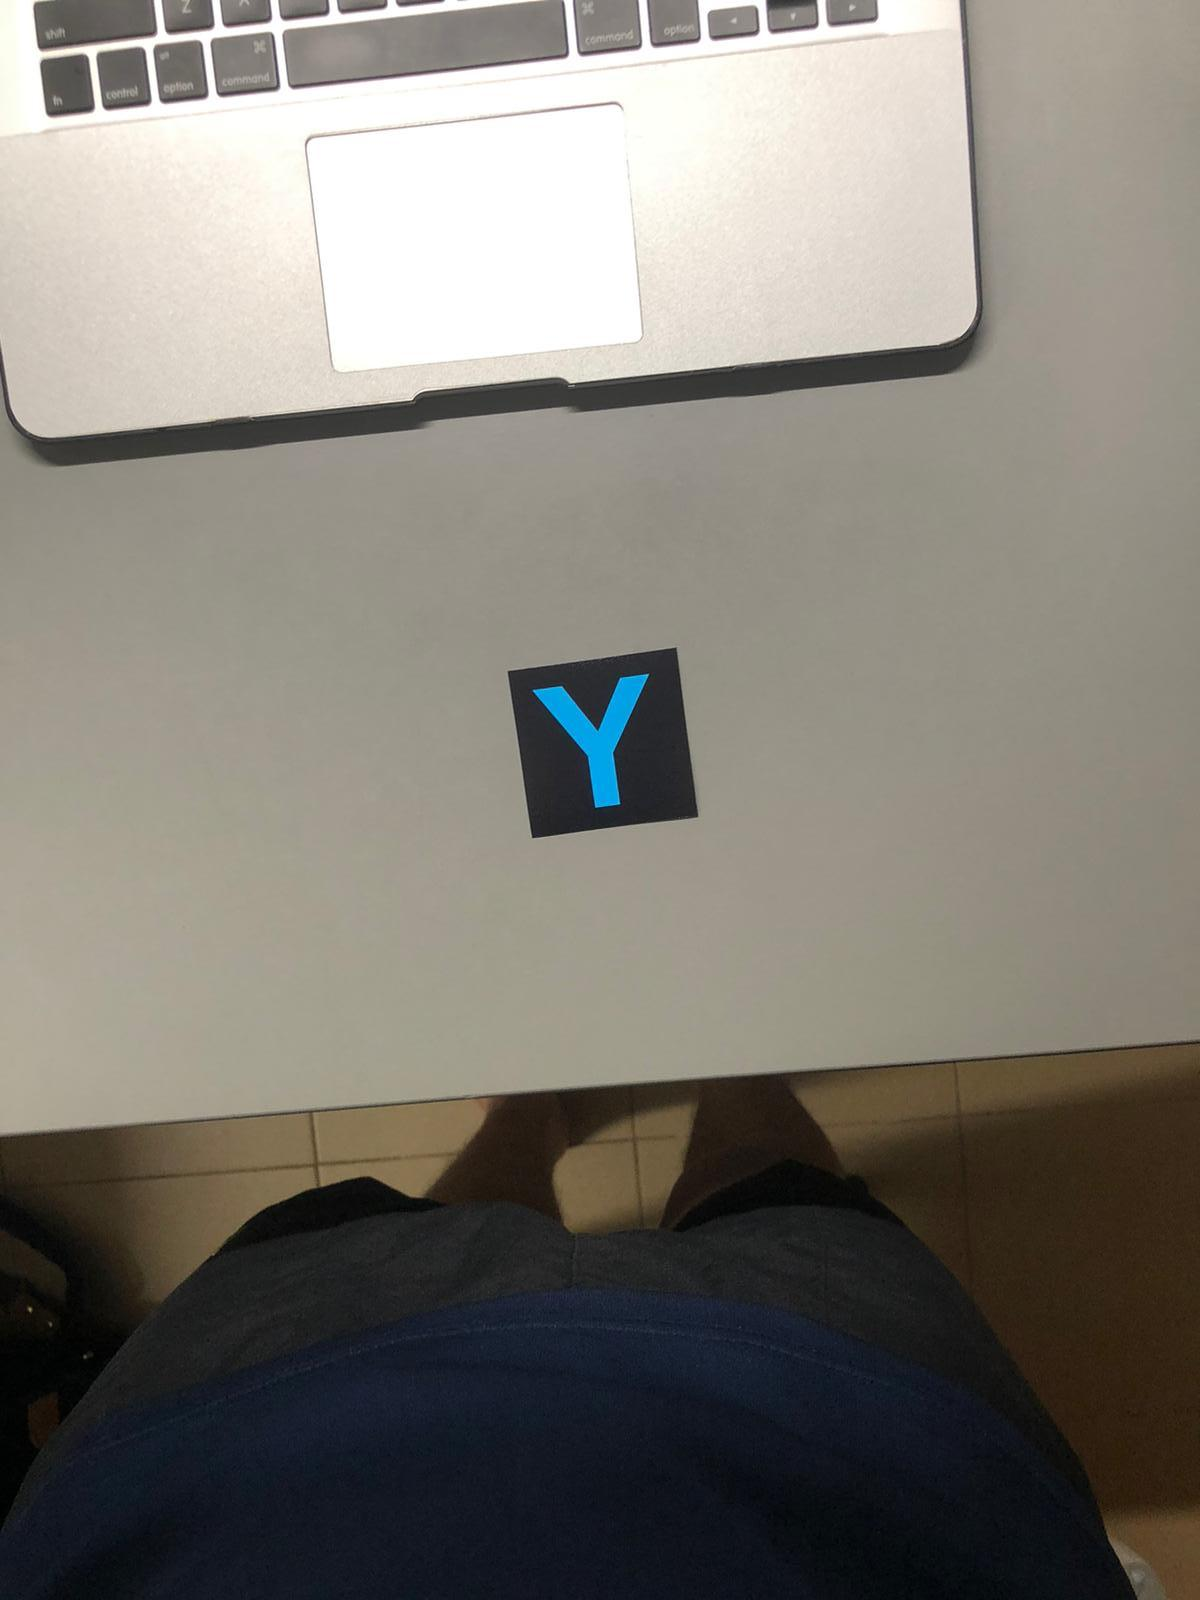Y: (504, 656, 708, 840)
